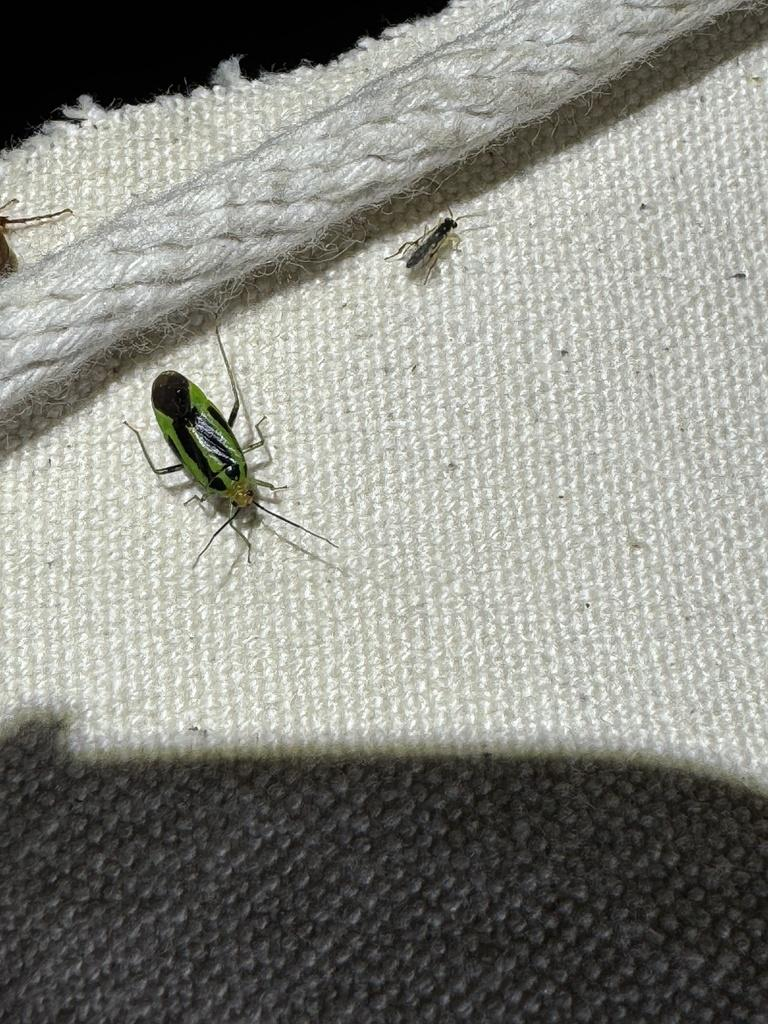plant_bugs: (81, 301, 371, 599)
